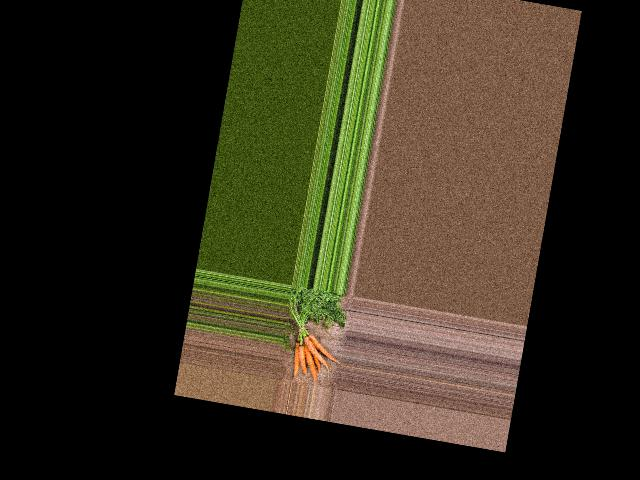carrot: (290, 340, 313, 376)
